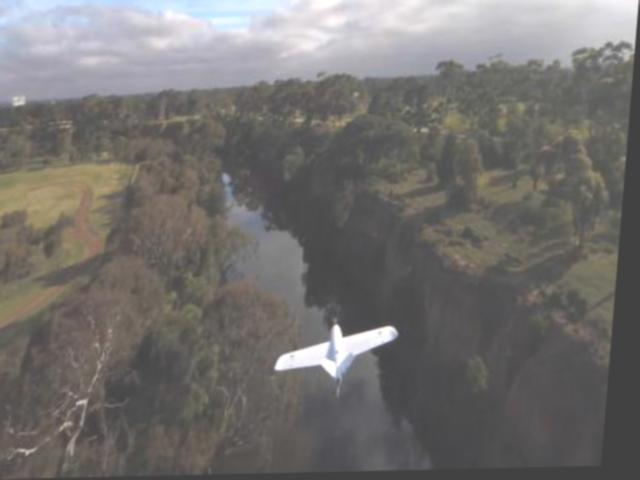uav: (278, 321, 408, 397)
